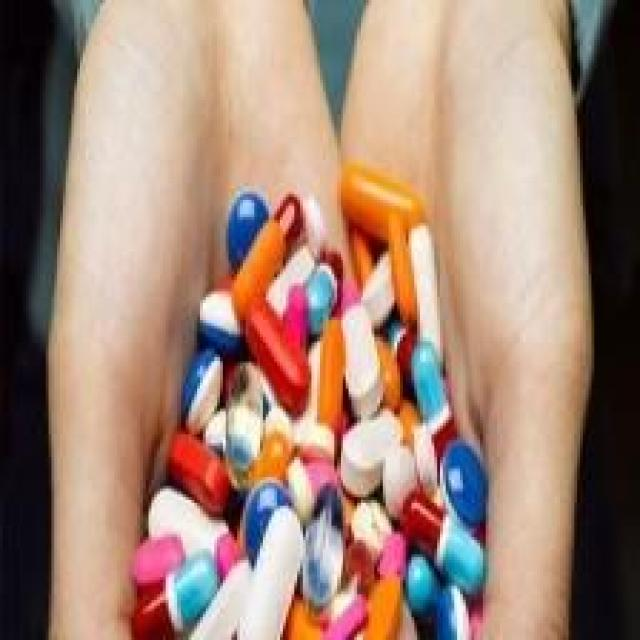Medicine: (112, 119, 504, 640)
